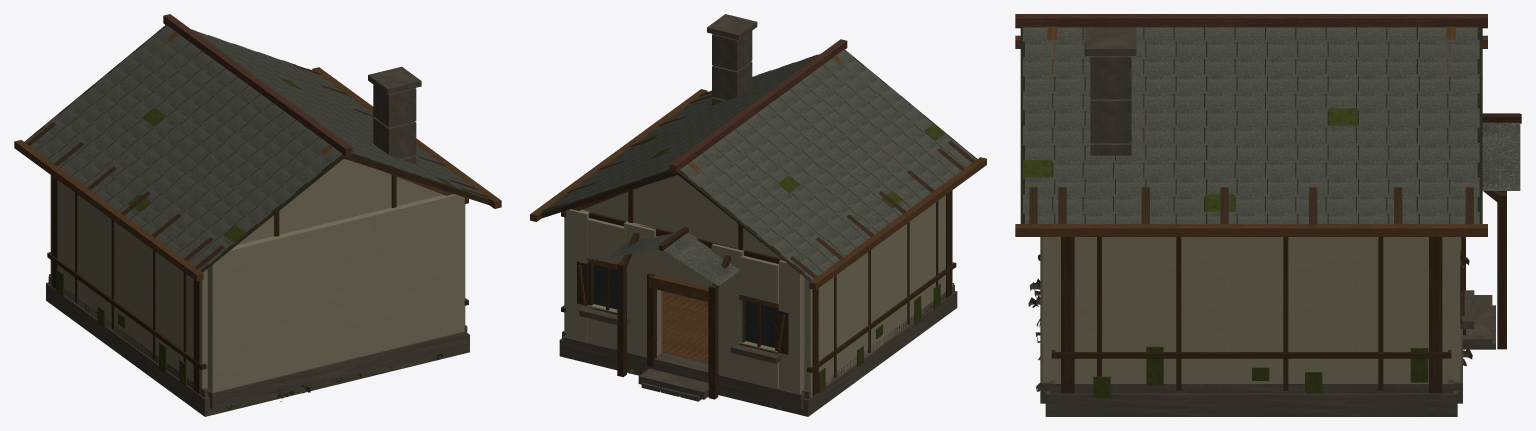
Rendered from village_hearth_house.glb.
The picture shows the model from 3 angles, left to right: view 1: azimuth 30°, elevation 25°; view 2: azimuth 150°, elevation 25°; view 3: azimuth 270°, elevation 25°; orthographic projection. The views are drawn at different scales.
Visible parts, largest first — view 1: faded_facade, cold_galvanized_metal, broken_fieldstone, dark_timber_and_frame, oak_planks_and_supports, char_and_rubber, oxide_sheet_metal, lichened_edges; view 2: cold_galvanized_metal, faded_facade, broken_fieldstone, dark_timber_and_frame, oak_planks_and_supports, char_and_rubber, oxide_sheet_metal, smoky_window_glass, lichened_edges; view 3: cold_galvanized_metal, faded_facade, broken_fieldstone, dark_timber_and_frame, oak_planks_and_supports, oxide_sheet_metal, char_and_rubber, lichened_edges.
Boxes of the visible parts, x1,y1,x2,y2 form: faded_facade: [50, 159, 465, 393]; cold_galvanized_metal: [25, 25, 490, 270]; broken_fieldstone: [46, 66, 469, 416]; dark_timber_and_frame: [26, 64, 489, 394]; oak_planks_and_supports: [14, 31, 501, 396]; char_and_rubber: [24, 25, 491, 272]; oxide_sheet_metal: [163, 14, 352, 156]; lichened_edges: [56, 77, 458, 386]; cold_galvanized_metal: [540, 49, 976, 285]; faded_facade: [564, 175, 952, 396]; broken_fieldstone: [559, 14, 957, 416]; dark_timber_and_frame: [541, 91, 975, 399]; oak_planks_and_supports: [530, 55, 986, 397]; char_and_rubber: [539, 56, 977, 281]; oxide_sheet_metal: [669, 39, 847, 172]; smoky_window_glass: [594, 264, 774, 347]; lichened_edges: [637, 123, 946, 393]; cold_galvanized_metal: [1023, 27, 1520, 223]; faded_facade: [1042, 237, 1461, 392]; broken_fieldstone: [1028, 27, 1495, 416]; dark_timber_and_frame: [1029, 94, 1521, 393]; oak_planks_and_supports: [1015, 26, 1487, 315]; oxide_sheet_metal: [1015, 14, 1487, 28]; char_and_rubber: [1020, 28, 1482, 223]; lichened_edges: [1023, 108, 1428, 397].
Size of the model in its own units: 7.06 by 5.93 by 7.84.
Materials: 10 (10 with a texture image).
